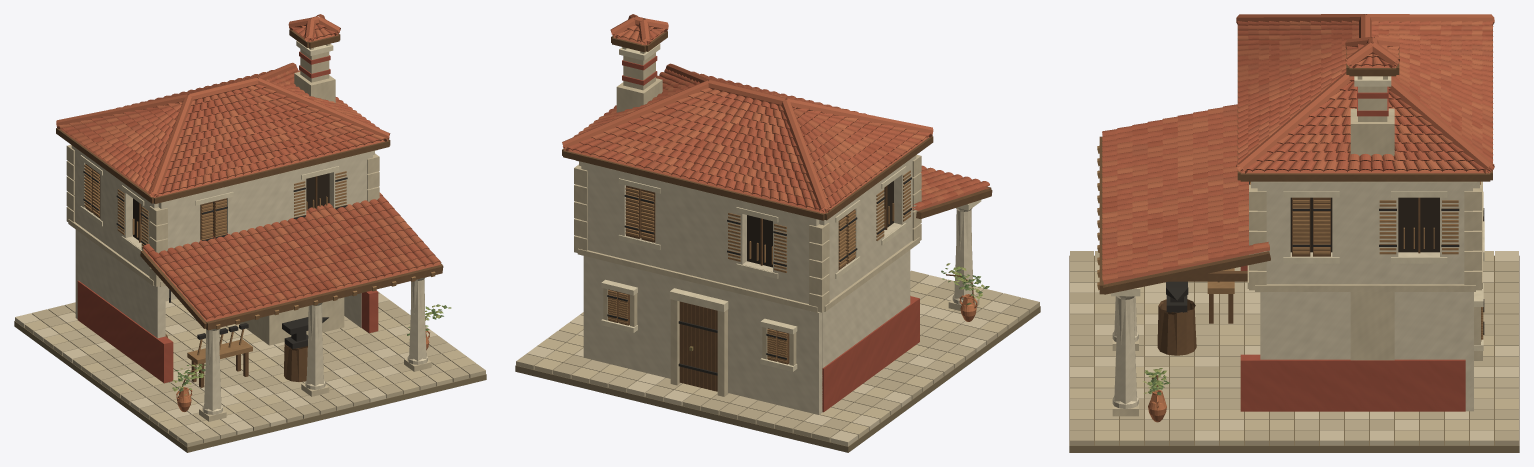
Rendered from schmiede.glb.
The picture shows the model from 3 angles, left to right: view 1: azimuth 30°, elevation 25°; view 2: azimuth 150°, elevation 25°; view 3: azimuth 270°, elevation 25°; orthographic projection. The views are drawn at different scales.
Visible parts, largest first — view 1: Tile_0.001, Limewash.001, Tile_1.001, Limewash.002, Paving_3.001, Paving_1.001, Paving_0.001, Oak.001, Tile_5.001, Paving_2.001, Travertine.001, Tile_2.001 (+16 smaller); view 2: Limewash.001, Limewash.002, Tile_0.001, Tile_1.001, Travertine.001, Oak.001, Travertine.002, Paving_1.001, Paving_3.001, Paving_0.001, Tile_5.001, Oak_edge.001 (+16 smaller); view 3: Tile_0.001, Limewash.001, Limewash.002, Tile_1.001, Paving_1.001, Pompeian_red.001, Paving_3.001, Pompeian_red.002, Tile_5.001, Paving_0.001, Travertine.001, Travertine.002 (+17 smaller).
Boxes of the visible parts, x1,y1,x2,y2 form: Tile_0.001: (61, 24, 433, 319); Limewash.001: (72, 145, 427, 414); Tile_1.001: (56, 14, 441, 304); Limewash.002: (71, 145, 374, 338); Paving_3.001: (53, 291, 457, 442); Paving_1.001: (31, 300, 485, 446); Paving_0.001: (24, 298, 476, 432); Oak.001: (56, 29, 443, 394); Tile_5.001: (69, 28, 416, 307); Paving_2.001: (15, 293, 437, 434); Travertine.001: (67, 44, 428, 420); Tile_2.001: (60, 29, 440, 321); Limewash.001: (579, 162, 975, 413); Limewash.002: (579, 155, 916, 414); Tile_0.001: (563, 30, 989, 211); Tile_1.001: (562, 14, 961, 213); Travertine.001: (574, 47, 978, 396); Oak.001: (562, 31, 992, 389); Travertine.002: (574, 47, 979, 396); Paving_1.001: (516, 270, 1039, 441); Paving_3.001: (548, 289, 1021, 428); Paving_0.001: (534, 283, 1018, 438); Tile_5.001: (588, 29, 964, 209); Oak_edge.001: (608, 170, 910, 363); Tile_0.001: (1102, 20, 1493, 274); Limewash.001: (1112, 181, 1478, 410); Limewash.002: (1251, 181, 1479, 411); Tile_1.001: (1102, 14, 1494, 281); Paving_1.001: (1070, 251, 1518, 445); Pompeian_red.001: (1242, 94, 1464, 410); Paving_3.001: (1070, 261, 1518, 445); Pompeian_red.002: (1240, 86, 1465, 411); Tile_5.001: (1102, 25, 1493, 265); Paving_0.001: (1070, 251, 1518, 445); Travertine.001: (1113, 76, 1482, 414); Travertine.002: (1112, 76, 1482, 416).
Size of the model in its own units: 9.2 by 8.54 by 9.2.
27 materials, 8 textured.
